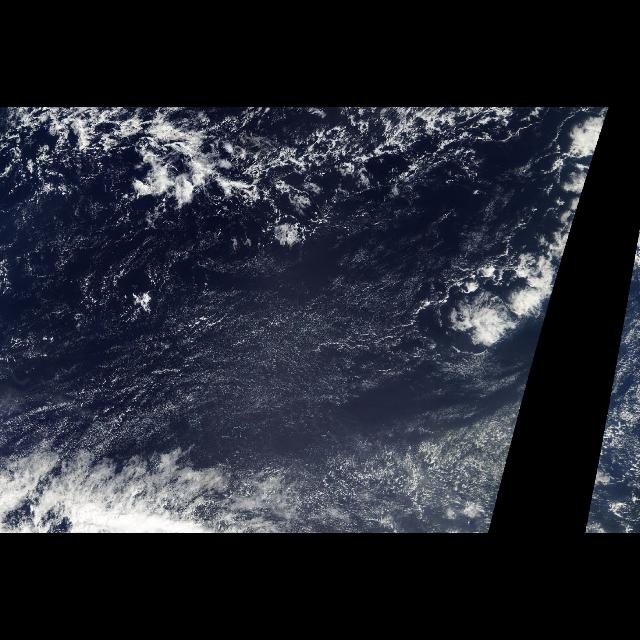Fish: (27, 108, 527, 262)
Sugar: (5, 190, 502, 496)
